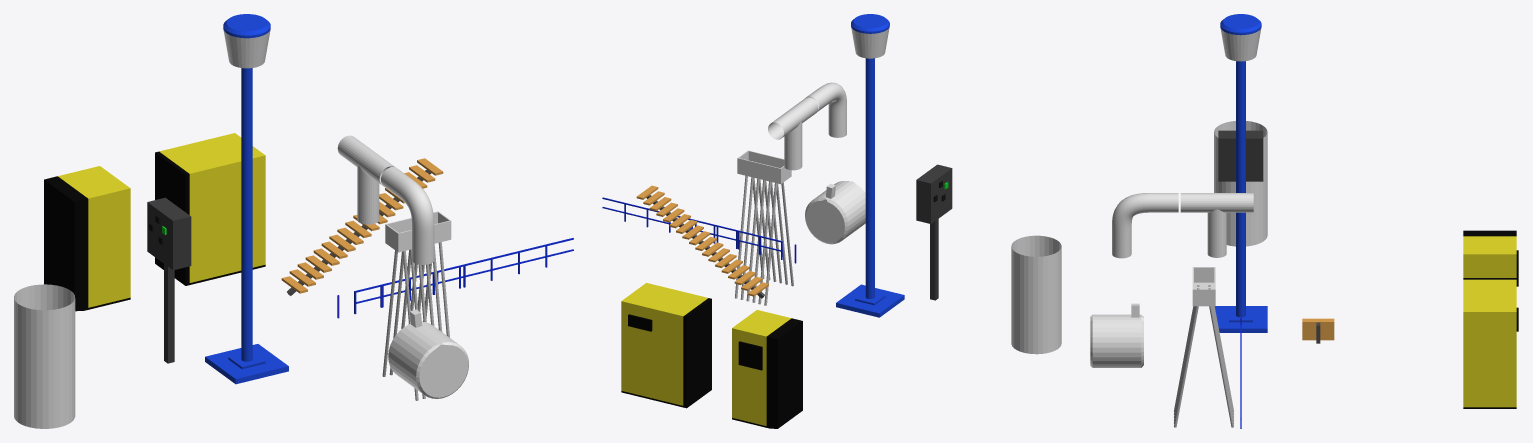
The model's file is planta objects.fbx.
3 renders of one model, left to right at view 1: azimuth 30°, elevation 25°; view 2: azimuth 150°, elevation 25°; view 3: azimuth 270°, elevation 25°, orthographic. The views are drawn at different scales.
Parts seen in each view (by area): view 1: cajon1, cajon2, TuboDesague, Lampara, bomba, gabinete, escaleras, tubos_reactor, Codo, TE, Almacen, barandilla; view 2: cajon1, cajon2, TuboDesague, Lampara, tubos_reactor, bomba, escaleras, gabinete, TE, Codo, Almacen, barandilla; view 3: cajon1, Lampara, bomba, TuboDesague, cajon2, TE, Codo, gabinete, tubos_reactor, Almacen, escaleras.
Boxes of the visible parts, x1,y1,x2,y2 form: cajon1: (155, 133, 265, 285); cajon2: (44, 166, 130, 311); TuboDesague: (14, 284, 75, 428); Lampara: (205, 14, 288, 384); bomba: (388, 309, 468, 398); gabinete: (147, 197, 191, 363); escaleras: (281, 158, 443, 295); tubos_reactor: (382, 242, 449, 400); Codo: (381, 167, 434, 264); TE: (337, 135, 395, 224); Almacen: (385, 211, 451, 252); barandilla: (354, 238, 573, 314); cajon1: (621, 283, 711, 408); cajon2: (732, 310, 802, 428); TuboDesague: (1011, 235, 1061, 354); Lampara: (836, 14, 904, 317); tubos_reactor: (735, 175, 793, 305); bomba: (805, 181, 865, 244); escaleras: (636, 185, 768, 298); gabinete: (916, 164, 952, 300); TE: (768, 97, 818, 170); Codo: (806, 82, 846, 137); Almacen: (737, 150, 791, 184); barandilla: (602, 197, 782, 259); cajon1: (1463, 278, 1518, 408); Lampara: (1215, 14, 1267, 332); bomba: (1090, 303, 1143, 367); TuboDesague: (1214, 121, 1267, 246); cajon2: (1463, 230, 1518, 286); TE: (1180, 193, 1253, 257); Codo: (1112, 193, 1178, 258); gabinete: (1218, 130, 1263, 181); tubos_reactor: (1174, 285, 1234, 427); Almacen: (1192, 267, 1215, 306); escaleras: (1302, 318, 1334, 343).
Size of the model in its own units: 2093 by 1378 by 1601.
